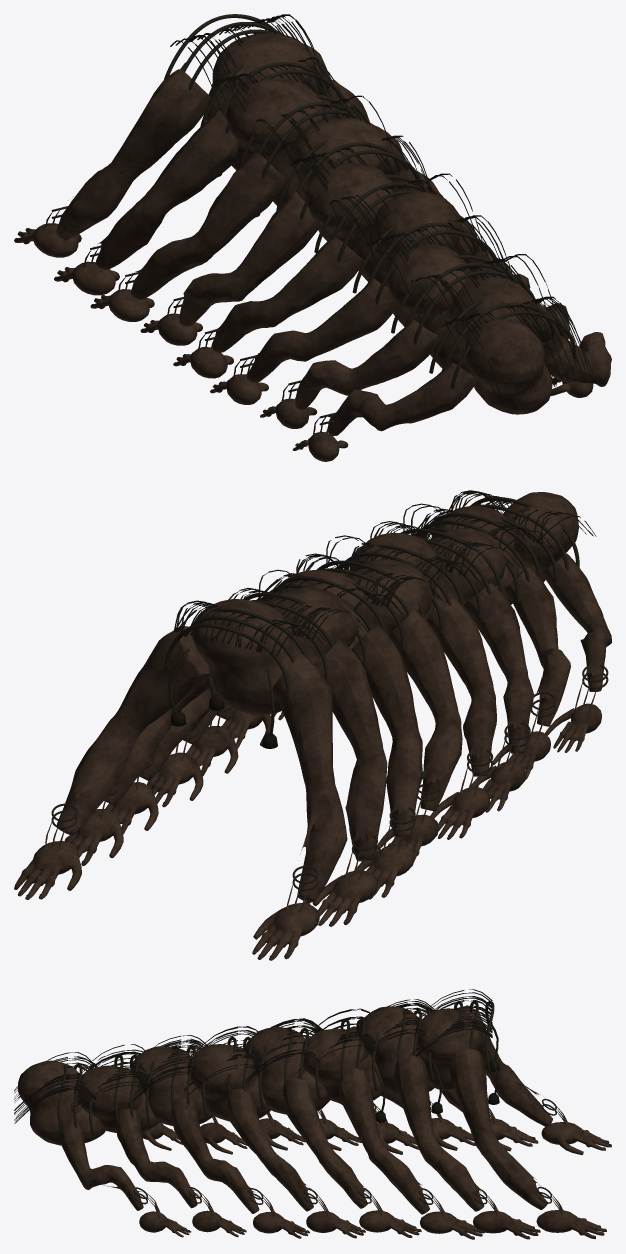
The model's file is wraith-body.fbx.
The picture shows the model from 3 angles, top to bottom: view 1: azimuth 30°, elevation 25°; view 2: azimuth 150°, elevation 25°; view 3: azimuth 270°, elevation 25°; orthographic projection. The views are drawn at different scales.
Parts seen in each view (by area): view 1: Human five-finger arm 00L, Human five-finger arm 01L, Human five-finger arm 02L, Human five-finger arm 03L, Human five-finger arm 04L, Low fused human body Segment07, Human five-finger arm 05L, Human five-finger arm 06L, Human five-finger arm 07L, Low fused human body Segment01, Low fused human body Segment03, Low fused human body Segment04 (+23 smaller); view 2: Human five-finger arm 00L, Human five-finger arm 00R, Human five-finger arm 01L, Human five-finger arm 02L, Human five-finger arm 03L, Low fused human body Segment00, Human five-finger arm 04L, Human five-finger arm 05L, Human five-finger arm 06L, Human five-finger arm 07L, Human five-finger arm 01R, Low fused human body Segment07 (+26 smaller); view 3: Human five-finger arm 00R, Human five-finger arm 01R, Human five-finger arm 02R, Human five-finger arm 03R, Human five-finger arm 04R, Low fused human body Segment07, Human five-finger arm 05R, Human five-finger arm 00L, Low fused human body Segment04, Human five-finger arm 06R, Low fused human body Segment03, Human five-finger arm 07R (+28 smaller).
Boxes of the visible parts, <box> form: Human five-finger arm 00L: <box>14,69,210,257</box>; Human five-finger arm 01L: <box>54,110,238,295</box>; Human five-finger arm 02L: <box>90,152,285,321</box>; Human five-finger arm 03L: <box>140,191,321,345</box>; Human five-finger arm 04L: <box>173,237,363,378</box>; Low fused human body Segment07: <box>464,318,552,414</box>; Human five-finger arm 05L: <box>210,278,398,404</box>; Human five-finger arm 06L: <box>260,319,439,428</box>; Human five-finger arm 07L: <box>292,362,477,461</box>; Low fused human body Segment01: <box>226,78,324,170</box>; Low fused human body Segment03: <box>305,162,396,252</box>; Low fused human body Segment04: <box>355,191,462,286</box>; Human five-finger arm 00L: <box>252,654,347,960</box>; Human five-finger arm 00R: <box>14,626,210,899</box>; Human five-finger arm 01L: <box>312,639,387,926</box>; Human five-finger arm 02L: <box>351,625,422,899</box>; Human five-finger arm 03L: <box>377,610,462,861</box>; Low fused human body Segment00: <box>191,599,299,715</box>; Human five-finger arm 04L: <box>426,596,496,839</box>; Human five-finger arm 05L: <box>464,583,533,812</box>; Human five-finger arm 06L: <box>492,567,570,779</box>; Human five-finger arm 07L: <box>542,553,611,752</box>; Human five-finger arm 01R: <box>64,677,209,865</box>; Low fused human body Segment07: <box>503,492,578,603</box>; Human five-finger arm 00R: <box>449,1047,606,1238</box>; Human five-finger arm 01R: <box>394,1055,540,1239</box>; Human five-finger arm 02R: <box>338,1067,484,1239</box>; Human five-finger arm 03R: <box>283,1078,421,1237</box>; Human five-finger arm 04R: <box>227,1088,365,1238</box>; Low fused human body Segment07: <box>18,1060,105,1145</box>; Human five-finger arm 05R: <box>171,1098,309,1238</box>; Human five-finger arm 00L: <box>459,1005,611,1154</box>; Low fused human body Segment04: <box>187,1044,271,1121</box>; Human five-finger arm 06R: <box>116,1108,246,1237</box>; Low fused human body Segment03: <box>245,1026,330,1114</box>; Human five-finger arm 07R: <box>59,1118,191,1237</box>.
Bounding box in the file's own units: 192 × 155 × 459.
Materials: 4 (4 with a texture image).
